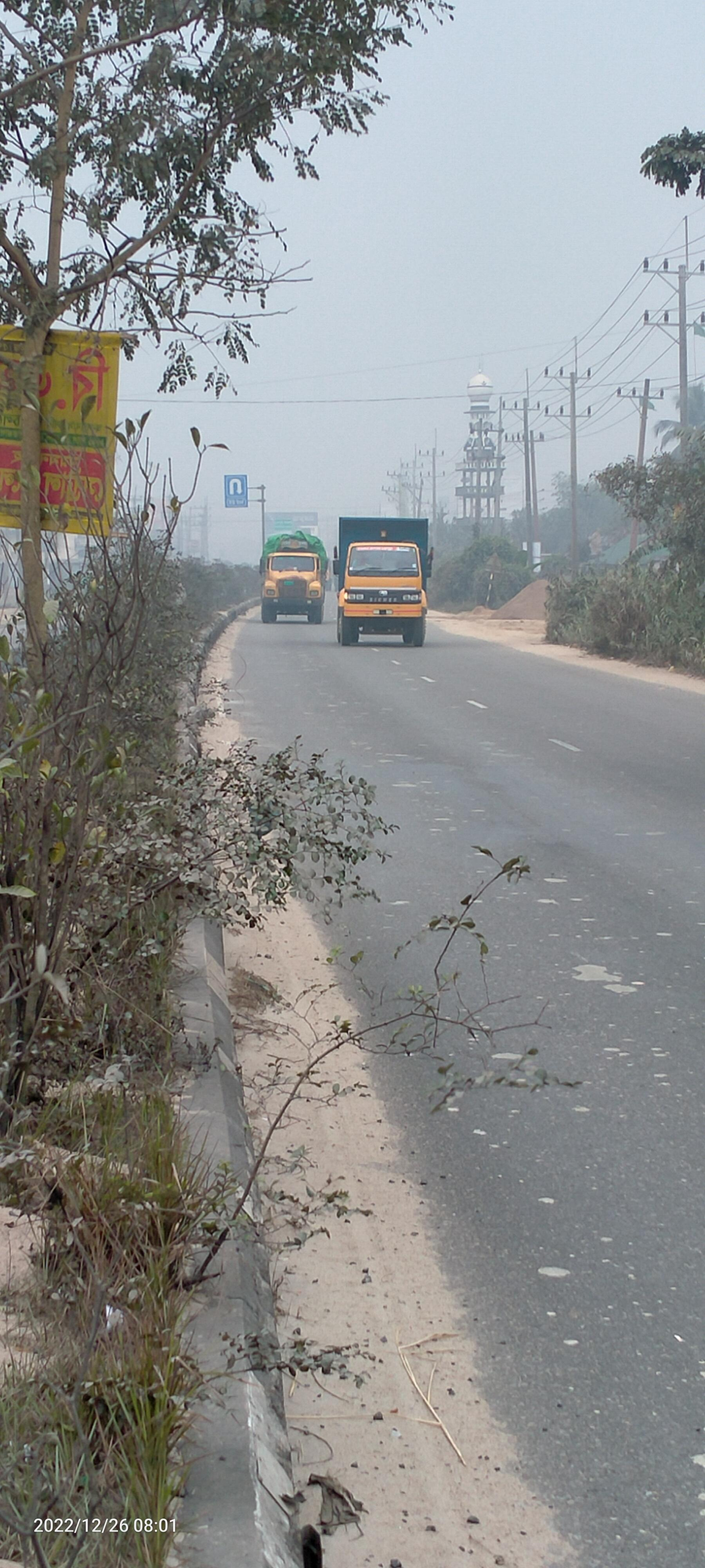Truck: (333, 513, 430, 649), (254, 534, 325, 625)
